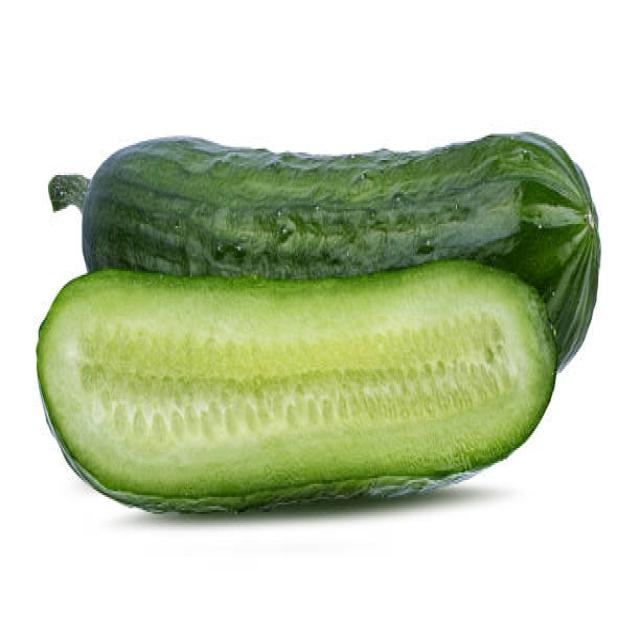cucumber: (36, 258, 557, 514), (83, 130, 601, 370)
